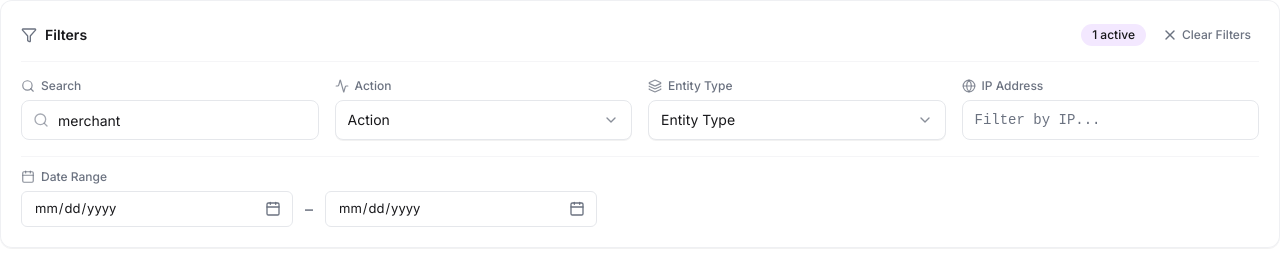
Test case: AuditLogFilters with the real query state › seeds the box from the URL and clears it with Clear Filters
Expected: the search field with test id "audit-search" holds "merchant", [21,100,318,140]
Click the button with test id "btn-clear-filters" at point(1206, 35), box [1154,21,1259,49]
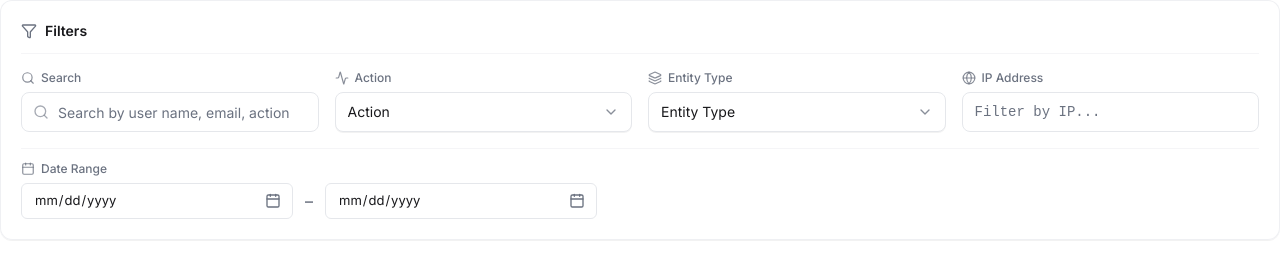
Result: the search field with test id "audit-search" is empty at [21,92,318,132]
Result: the element with test id "active-filters-count" is gone
